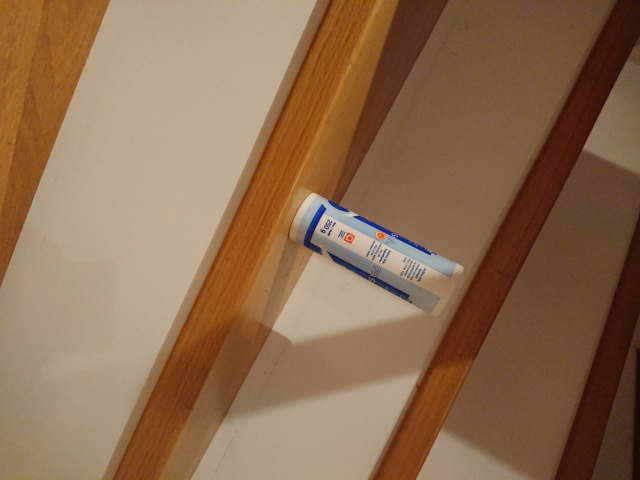Solana Pag Fine Sea Salt 250g: (284, 188, 469, 319)
